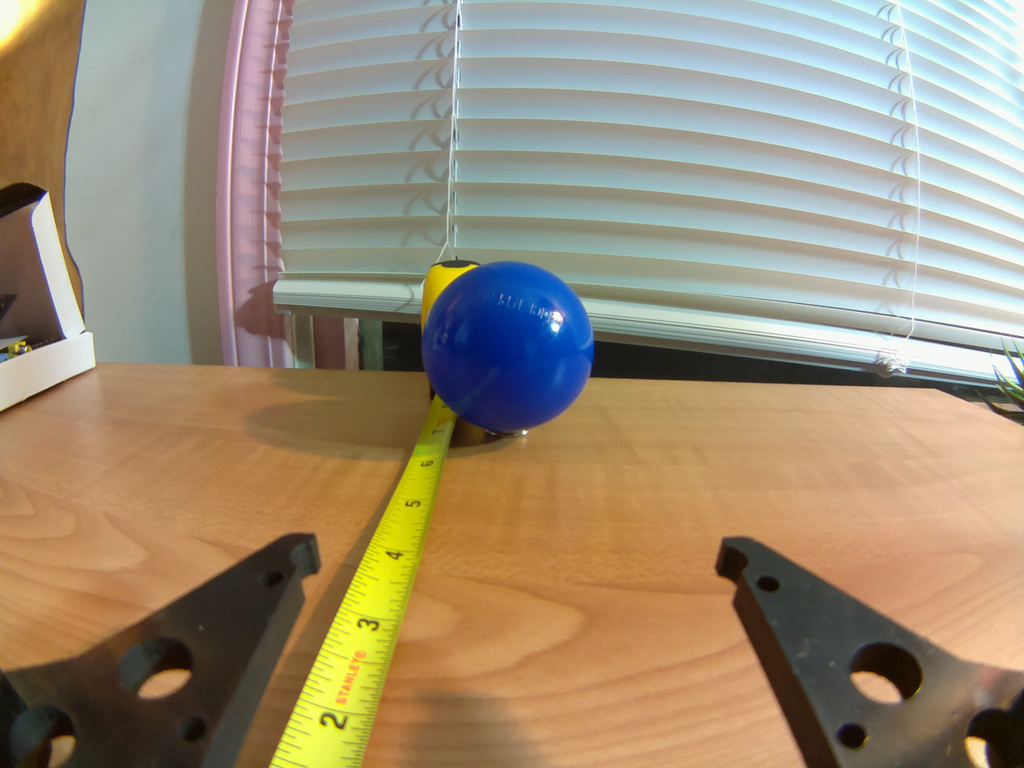ball: (418, 259, 596, 436)
